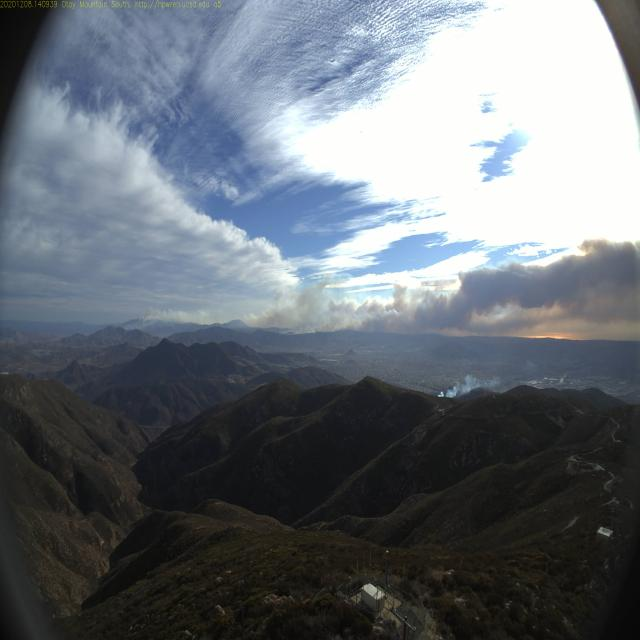smoke: (500, 356, 538, 388), (459, 372, 499, 396), (438, 384, 458, 399)
